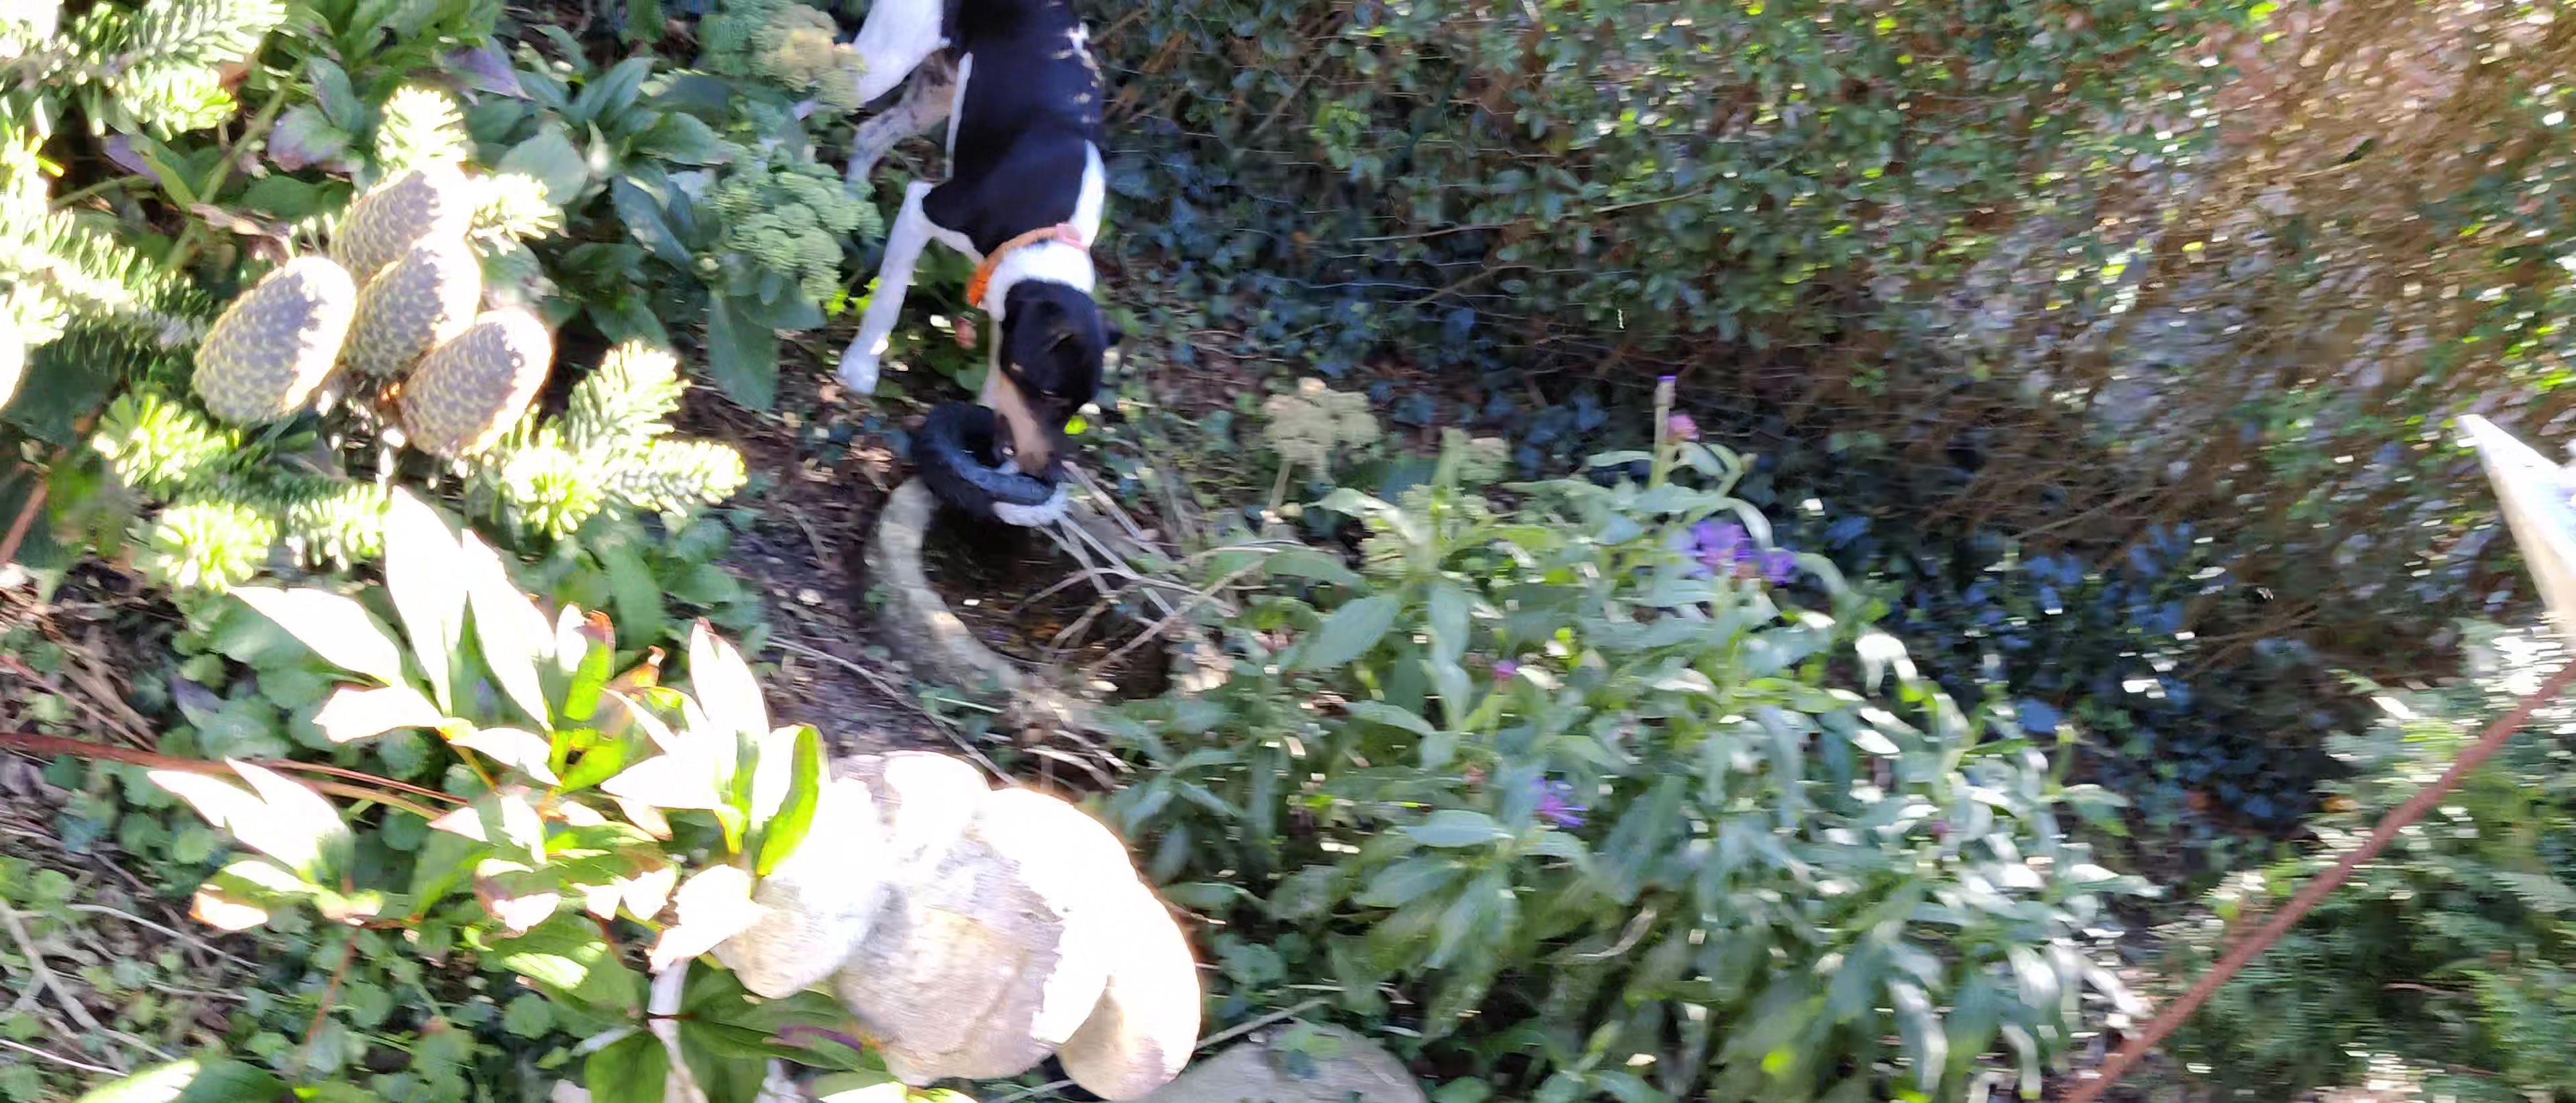Dog: (789, 0, 1132, 487)
